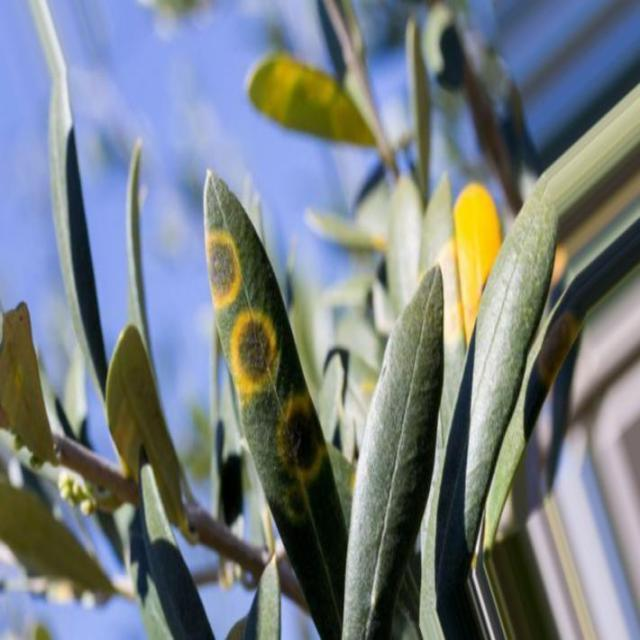OlivePeacockSpot: (204, 173, 346, 639)
